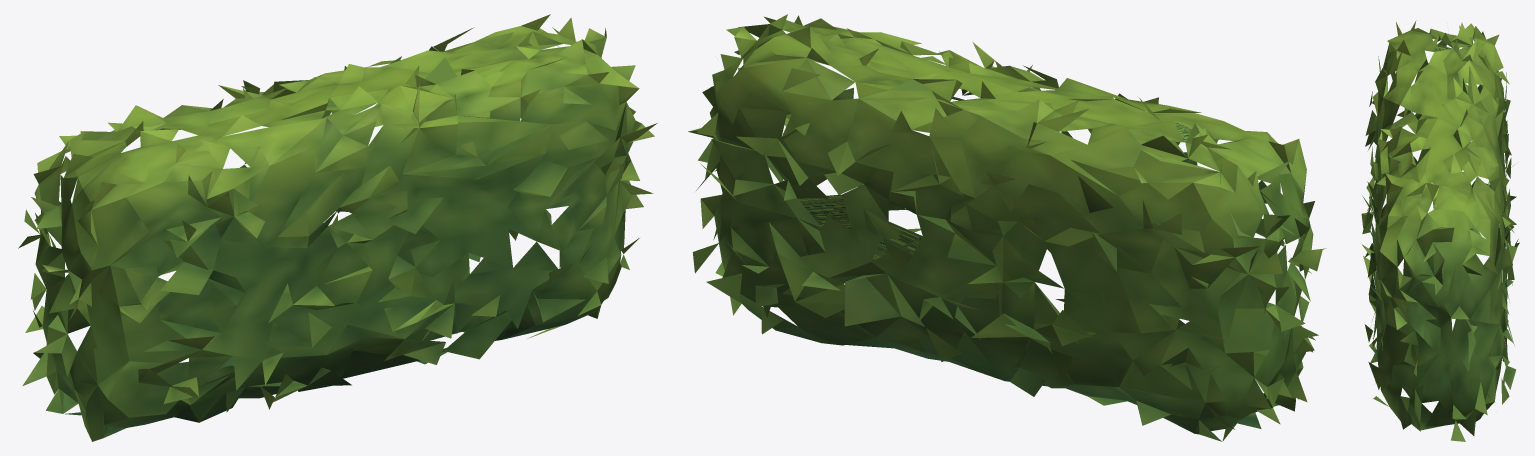
The model's file is hedge_box.glb.
3 views of the same model, side by side, from view 1: azimuth 30°, elevation 25°; view 2: azimuth 150°, elevation 25°; view 3: azimuth 270°, elevation 25° (orthographic). The views are drawn at different scales.
Parts seen in each view (by area): view 1: geometry_0; view 2: geometry_0; view 3: geometry_0.
Boxes of the visible parts, x1=… form: geometry_0: x1=18, y1=14, x2=657, y2=441; geometry_0: x1=688, y1=14, x2=1326, y2=441; geometry_0: x1=1361, y1=20, x2=1519, y2=441.
Size of the model in its own units: 3.3 by 1.5 by 0.92.
Materials: 1 (1 with a texture image).
